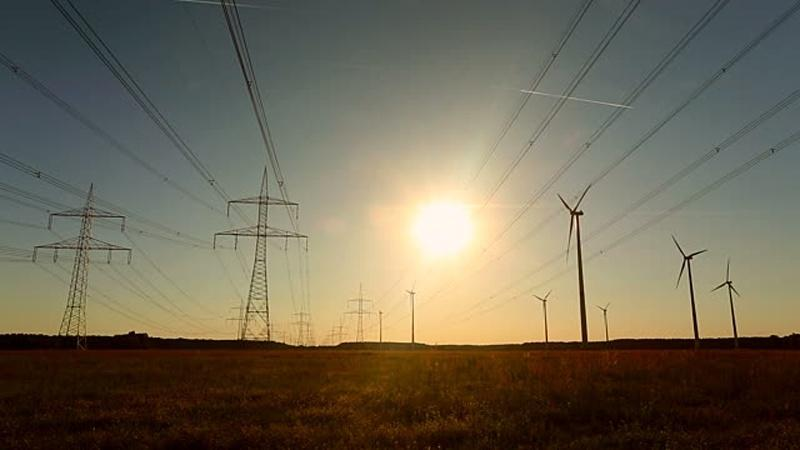power_tower: (30, 179, 122, 345), (200, 164, 278, 343)
